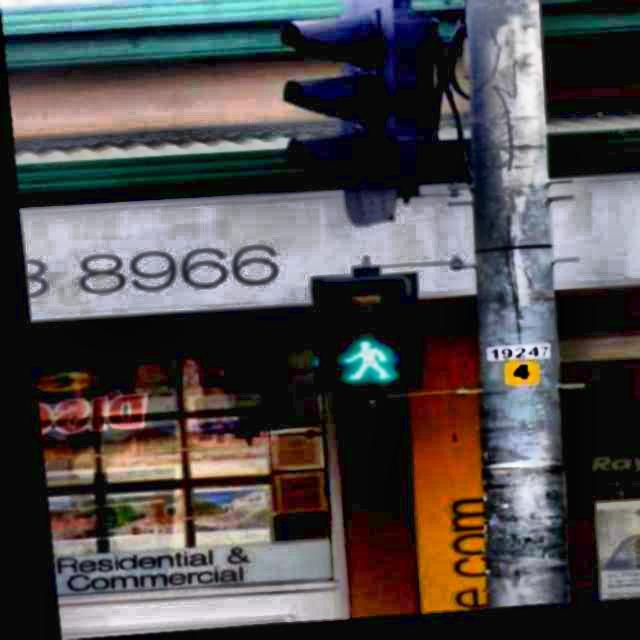semaforo pedestre: (273, 235, 465, 467)
